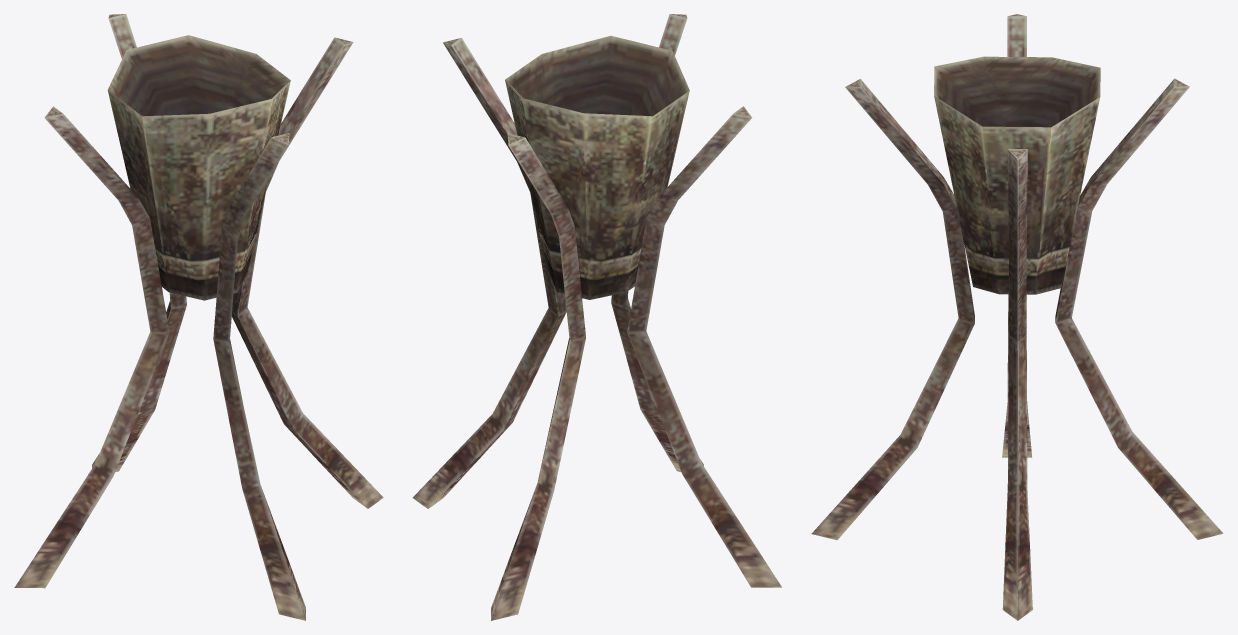
Rendered from OZ_20_wv_T04torchA.glb.
3 renders of one model, left to right at view 1: azimuth 30°, elevation 25°; view 2: azimuth 150°, elevation 25°; view 3: azimuth 270°, elevation 25°, orthographic. The views are drawn at different scales.
Parts seen in each view (by area): view 1: OM_20_wv_T04torchA; view 2: OM_20_wv_T04torchA; view 3: OM_20_wv_T04torchA.
Boxes of the visible parts, x1,y1,x2,y2 form: OM_20_wv_T04torchA: [14, 14, 383, 620]; OM_20_wv_T04torchA: [412, 14, 781, 620]; OM_20_wv_T04torchA: [811, 14, 1223, 620].
Size of the model in its own units: 1.21 by 1.47 by 1.21.
Materials: 1 (1 with a texture image).
